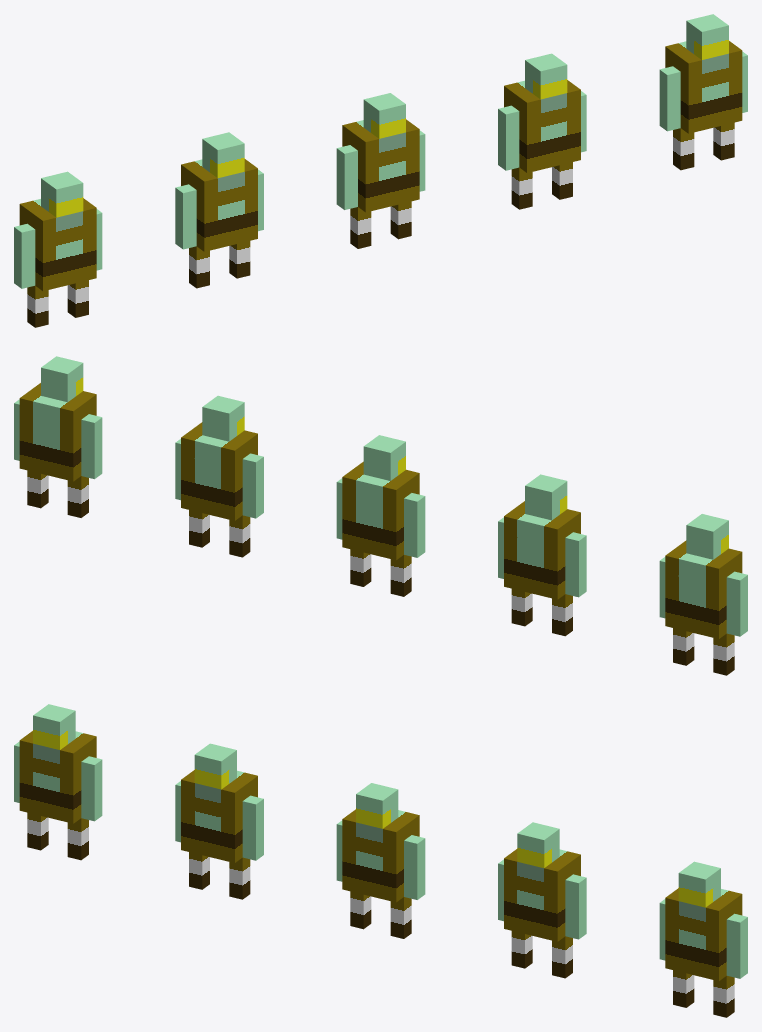
File: champion_undead.fbx
3 views of the same model, one above another, from view 1: azimuth 30°, elevation 25°; view 2: azimuth 150°, elevation 25°; view 3: azimuth 330°, elevation 25° (orthographic).
Visible parts, largest first — view 1: move_1, finish, idle_0, move_0, move_2; view 2: move_1, finish, idle_0, move_0, move_2; view 3: move_1, idle_0, finish, move_2, move_0.
Boxes of the visible parts, x1,y1,x2,y2 form: move_1: (336, 93, 425, 248); finish: (659, 14, 747, 170); idle_0: (14, 171, 102, 327); move_0: (175, 132, 263, 288); move_2: (498, 53, 586, 209); move_1: (336, 435, 425, 596); finish: (14, 356, 102, 517); idle_0: (659, 514, 747, 675); move_0: (498, 474, 586, 636); move_2: (175, 395, 263, 557); move_1: (336, 783, 425, 938); idle_0: (14, 704, 102, 860); finish: (659, 861, 747, 1017); move_2: (498, 822, 586, 978); move_0: (175, 743, 263, 899).
Bounding box in the file's own units: 54 × 10 × 3.
